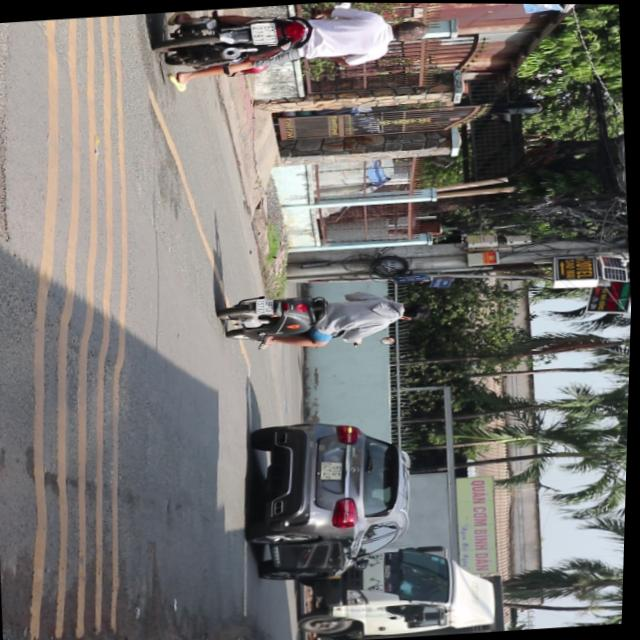licenseplate: (150, 1, 435, 84), (218, 279, 438, 353)
motorcyclist: (391, 15, 431, 40), (400, 297, 436, 320)
nohelmet: (252, 19, 277, 43), (257, 297, 277, 313)
